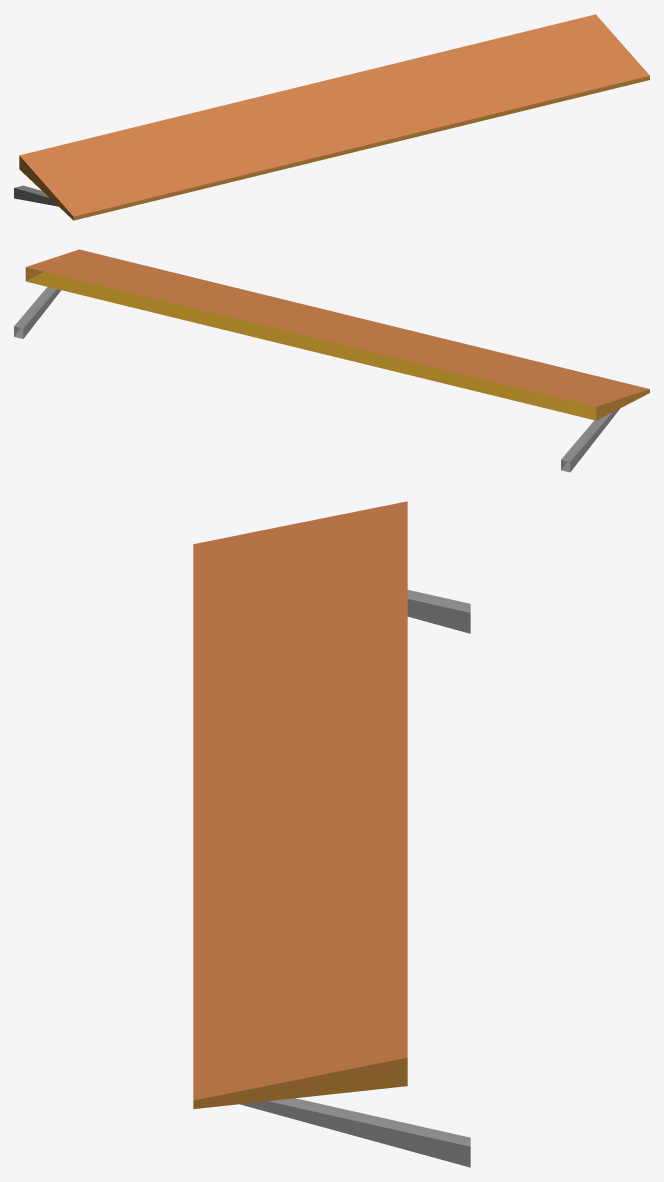
File: B02_auvent_long.fbx
3 renders of one model, top to bottom at view 1: azimuth 30°, elevation 25°; view 2: azimuth 150°, elevation 25°; view 3: azimuth 270°, elevation 25°, orthographic. The views are drawn at different scales.
Parts seen in each view (by area): view 1: B02_auvent_long; view 2: B02_auvent_long; view 3: B02_auvent_long.
Part boxes in pixels (x1,y1,x2,y2): B02_auvent_long: (14,14,649,220); B02_auvent_long: (14,249,649,472); B02_auvent_long: (193,501,470,1167).
Size of the model in its own units: 1000 by 95.6 by 210.
